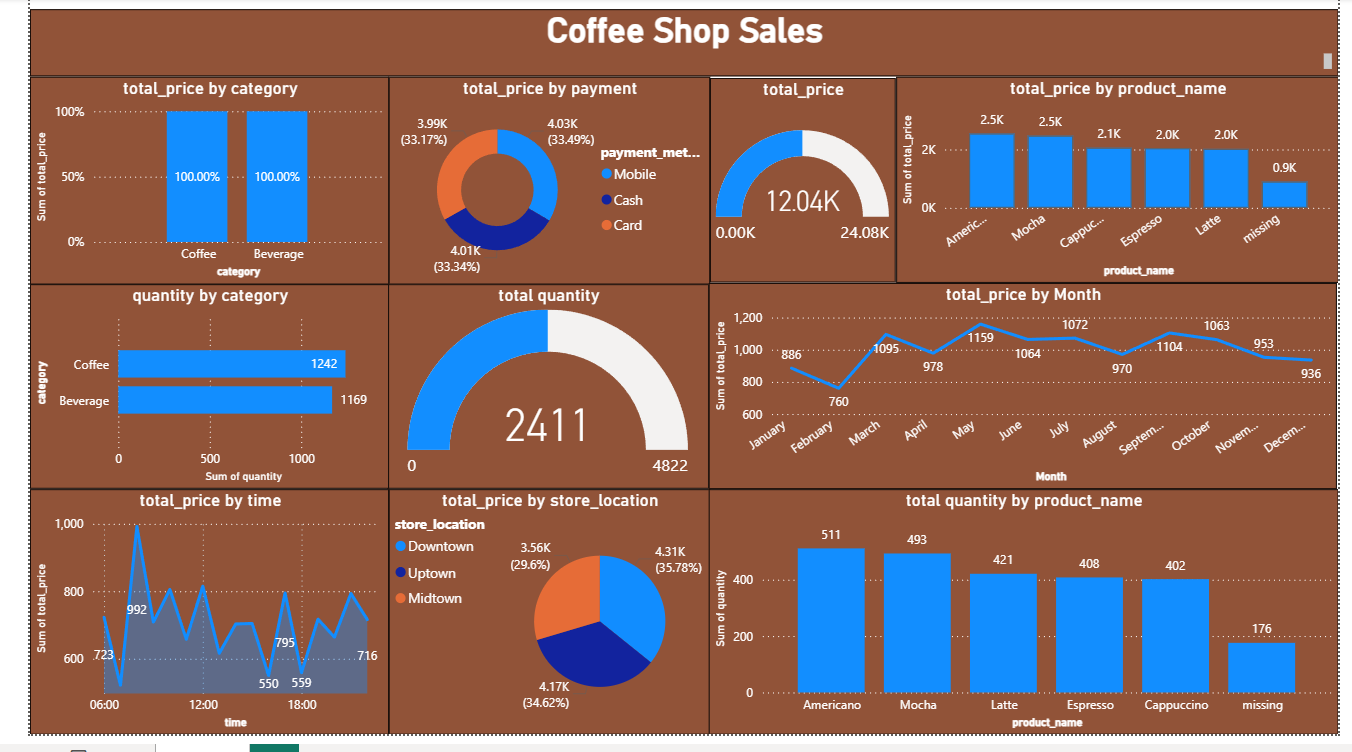

Layout of this report page (visuals, bound fields, positions):
{"tool":"powerbi","page":{"name":"Page 1","canvas":[1280,720],"ordinal":0},"visuals":[{"type":"hundredPercentStackedColumnChart","title":"total_price by category","fields":{"Category":["coffee_shop_sales_2024 xlsx.category"],"Y":["Sum(coffee_shop_sales_2024 xlsx.total_price)"]},"box":[0,77.1,351.4,202.9],"z":0},{"type":"clusteredColumnChart","title":"total_price by product_name","fields":{"Y":["Sum(coffee_shop_sales_2024 xlsx.total_price)"],"Category":["coffee_shop_sales_2024 xlsx.product_name"]},"box":[847.1,77.1,432.9,201.4],"z":1000},{"type":"pieChart","title":" total_price by store_location","fields":{"Category":["coffee_shop_sales_2024 xlsx.store_location"],"Y":["Sum(coffee_shop_sales_2024 xlsx.total_price)"]},"box":[351.4,480,314.3,240],"z":2000},{"type":"stackedAreaChart","title":"total_price by time","fields":{"Category":["coffee_shop_sales_2024 xlsx.time"],"Y":["Sum(coffee_shop_sales_2024 xlsx.total_price)"]},"box":[0,480,351.4,240],"z":3000},{"type":"gauge","title":" total quantity","fields":{"Y":["Sum(coffee_shop_sales_2024 xlsx.quantity)"]},"box":[350,280,314.3,200],"z":4000},{"type":"donutChart","title":"total_price by payment","fields":{"Category":["coffee_shop_sales_2024 xlsx.payment_method"],"Y":["Sum(coffee_shop_sales_2024 xlsx.total_price)"]},"box":[351.4,77.1,314.3,202.9],"z":5000},{"type":"lineChart","title":" total_price by Month","fields":{"Category":["coffee_shop_sales_2024 xlsx.date.Variation.Date Hierarchy.Year","coffee_shop_sales_2024 xlsx.date.Variation.Date Hierarchy.Month"],"Y":["Sum(coffee_shop_sales_2024 xlsx.total_price)"]},"box":[664.3,278.6,614.3,201.4],"z":6000},{"type":"clusteredBarChart","title":"quantity by category","fields":{"Category":["coffee_shop_sales_2024 xlsx.category"],"Y":["Sum(coffee_shop_sales_2024 xlsx.quantity)"]},"box":[0,280,351.4,200],"z":7000},{"type":"clusteredColumnChart","title":"total quantity by product_name","fields":{"Category":["coffee_shop_sales_2024 xlsx.product_name"],"Y":["Sum(coffee_shop_sales_2024 xlsx.quantity)"]},"box":[664.3,480,615.7,240],"z":8000},{"type":"textbox","title":"Coffee Shop Sales","box":[0,11.4,1280,65.7],"z":8001},{"type":"gauge","title":"total_price","fields":{"Y":["Sum(coffee_shop_sales_2024 xlsx.total_price)"]},"box":[665.7,78.6,181.4,200],"z":8002}]}

Visuals, with their boxes in screenshot pixels (x1, y1, x2, y2), scaled from the page's 1280x720 canvas onto the 1352x752 screenshot:
"total_price by category" hundredPercentStackedColumnChart: (left=0, top=81, right=371, bottom=292)
"total_price by product_name" clusteredColumnChart: (left=895, top=81, right=1351, bottom=291)
" total_price by store_location" pieChart: (left=371, top=501, right=703, bottom=751)
"total_price by time" stackedAreaChart: (left=0, top=501, right=371, bottom=751)
" total quantity" gauge: (left=370, top=292, right=702, bottom=501)
"total_price by payment" donutChart: (left=371, top=81, right=703, bottom=292)
" total_price by Month" lineChart: (left=702, top=291, right=1351, bottom=501)
"quantity by category" clusteredBarChart: (left=0, top=292, right=371, bottom=501)
"total quantity by product_name" clusteredColumnChart: (left=702, top=501, right=1351, bottom=751)
"Coffee Shop Sales" textbox: (left=0, top=12, right=1351, bottom=81)
"total_price" gauge: (left=703, top=82, right=895, bottom=291)
